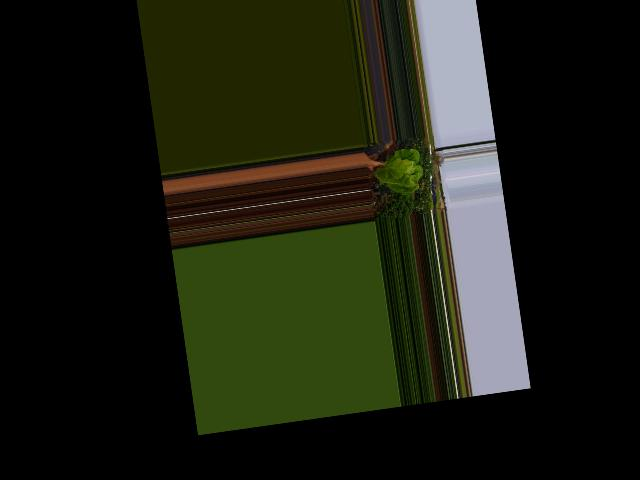lettuce: (368, 144, 426, 200)
